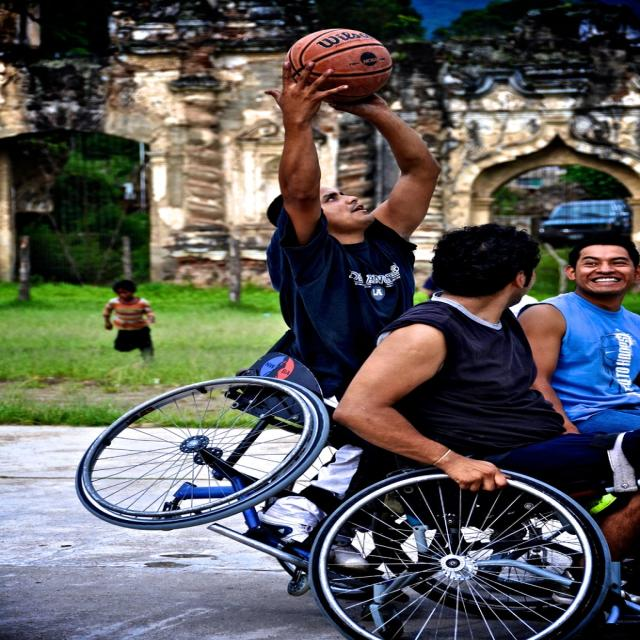Ball: (285, 29, 392, 103)
